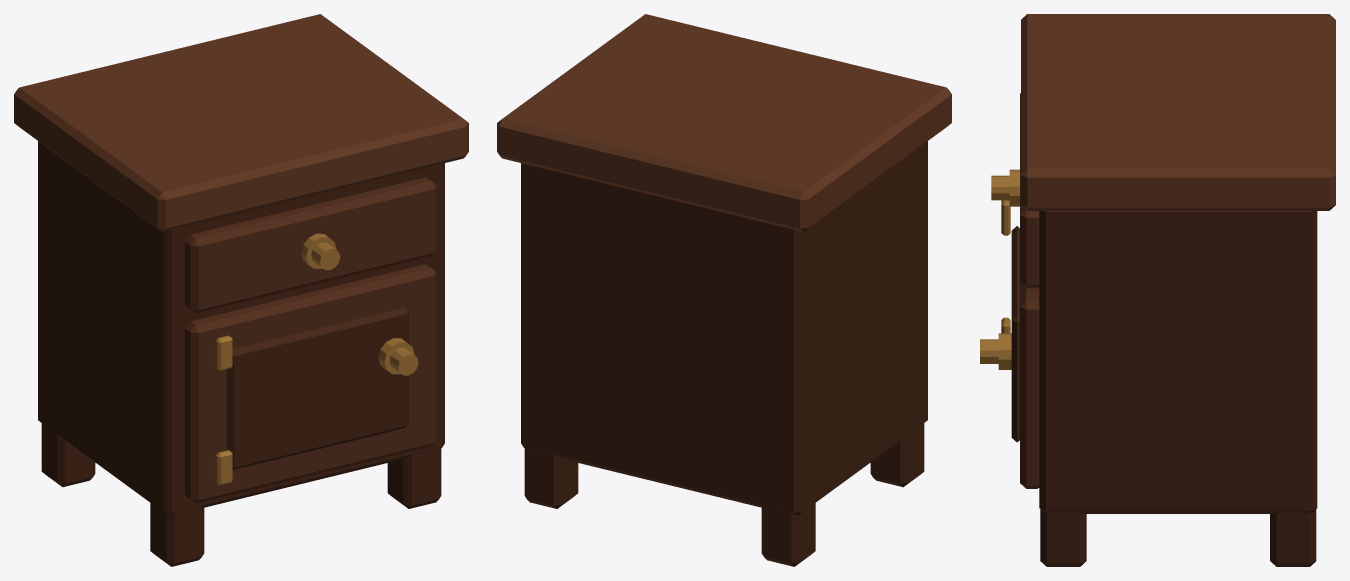
The model's file is BedsideCabinet.glb.
3 renders of one model, left to right at view 1: azimuth 30°, elevation 25°; view 2: azimuth 150°, elevation 25°; view 3: azimuth 270°, elevation 25°, orthographic. The views are drawn at different scales.
Visible parts, largest first — view 1: OverhangingTop, CabinetBody, CupboardDoor, DoorInset, DrawerFront, Foot, Foot.002, Foot.001, DrawerPull, CupboardPull, Hinge.001, Hinge (+1 smaller); view 2: CabinetBody, OverhangingTop, Foot.001, Foot.003, Foot; view 3: CabinetBody, OverhangingTop, CupboardDoor, Foot.003, Foot.002, DoorInset, DrawerFront, CupboardMount, DrawerPull, CupboardPull.
Part boxes in pixels (x1,y1,x2,y2): OverhangingTop: [14, 14, 468, 231]; CabinetBody: [38, 141, 444, 515]; CupboardDoor: [185, 264, 436, 503]; DoorInset: [226, 307, 408, 469]; DrawerFront: [185, 177, 436, 313]; Foot: [150, 503, 204, 566]; Foot.002: [387, 448, 441, 508]; Foot.001: [41, 423, 95, 487]; DrawerPull: [311, 242, 340, 270]; CupboardPull: [389, 348, 418, 375]; Hinge.001: [215, 335, 232, 370]; Hinge: [215, 450, 232, 485]; CabinetBody: [521, 141, 927, 515]; OverhangingTop: [497, 14, 951, 231]; Foot.001: [761, 503, 815, 566]; Foot.003: [524, 448, 578, 508]; Foot: [870, 423, 924, 487]; CabinetBody: [1039, 211, 1317, 513]; OverhangingTop: [1021, 14, 1335, 210]; CupboardDoor: [1020, 283, 1039, 488]; Foot.003: [1270, 509, 1316, 566]; Foot.002: [1040, 509, 1086, 566]; DoorInset: [1011, 226, 1019, 442]; DrawerFront: [1020, 93, 1039, 288]; CupboardMount: [998, 333, 1011, 369]; DrawerPull: [991, 175, 1009, 200]; CupboardPull: [980, 339, 998, 363].
Bounding box in the file's own units: 2.05 × 2.42 × 1.92.
